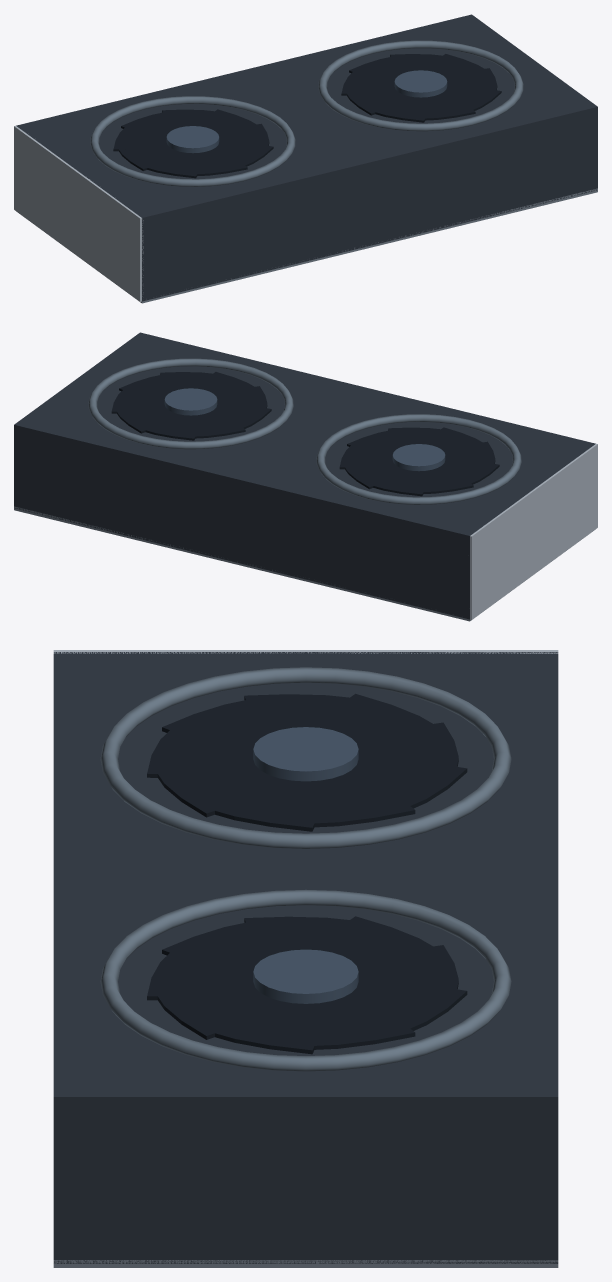
File: silhouette-gpu-2fan.glb
3 views of the same model, one above another, from view 1: azimuth 30°, elevation 25°; view 2: azimuth 150°, elevation 25°; view 3: azimuth 270°, elevation 25° (orthographic). The views are drawn at different scales.
Visible parts, largest first — view 1: Cooler shroud, Cooler blade (×18), Bracket, Fan rim (×2), Fan hub (×2), Backplate; view 2: Cooler shroud, Cooler blade (×18), Bracket, Fan rim (×2), Fan hub (×2), Backplate; view 3: Cooler shroud, Cooler blade (×18), Fan rim (×2), Fan hub (×2), Backplate, Bracket.
Boxes of the visible parts, <box> form: Cooler shroud: <box>16,14,597,301</box>; Cooler blade (×18): <box>113,54,501,178</box>; Bracket: <box>14,125,143,301</box>; Fan rim (×2): <box>90,40,523,186</box>; Fan hub (×2): <box>166,70,447,153</box>; Backplate: <box>19,188,597,303</box>; Cooler shroud: <box>14,332,595,619</box>; Cooler blade (×18): <box>111,372,499,496</box>; Bracket: <box>470,443,597,619</box>; Fan rim (×2): <box>88,358,521,504</box>; Fan hub (×2): <box>164,388,445,471</box>; Backplate: <box>14,506,592,621</box>; Cooler shroud: <box>53,652,558,1263</box>; Cooler blade (×18): <box>147,693,467,1054</box>; Fan rim (×2): <box>100,667,511,1071</box>; Fan hub (×2): <box>253,727,358,1003</box>; Backplate: <box>53,1260,558,1267</box>; Bracket: <box>53,650,558,653</box>.
Size of the model in its own units: 0.241 by 0.0465 by 0.115.
